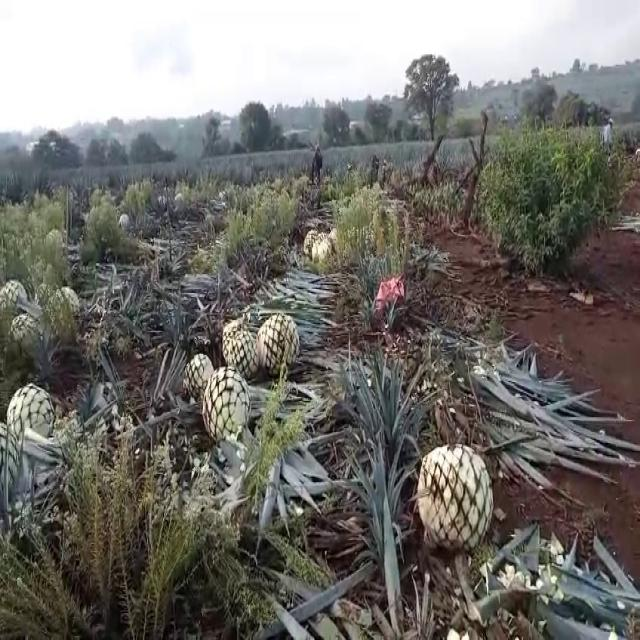agave: (409, 432, 497, 555), (198, 364, 252, 446), (4, 382, 62, 452), (254, 310, 302, 382), (0, 420, 36, 508), (223, 316, 261, 388), (182, 350, 216, 400), (0, 272, 30, 319), (9, 314, 38, 354), (49, 278, 78, 316), (302, 225, 318, 258), (316, 237, 332, 263), (309, 237, 324, 260)
